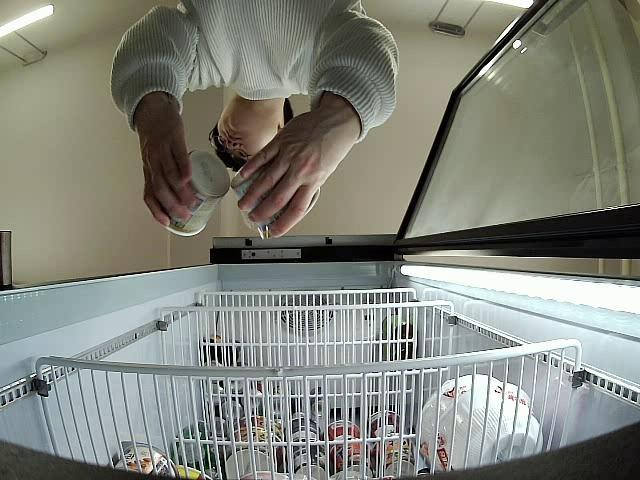04_chapagetti_S: (228, 159, 320, 240), (164, 148, 230, 236)
